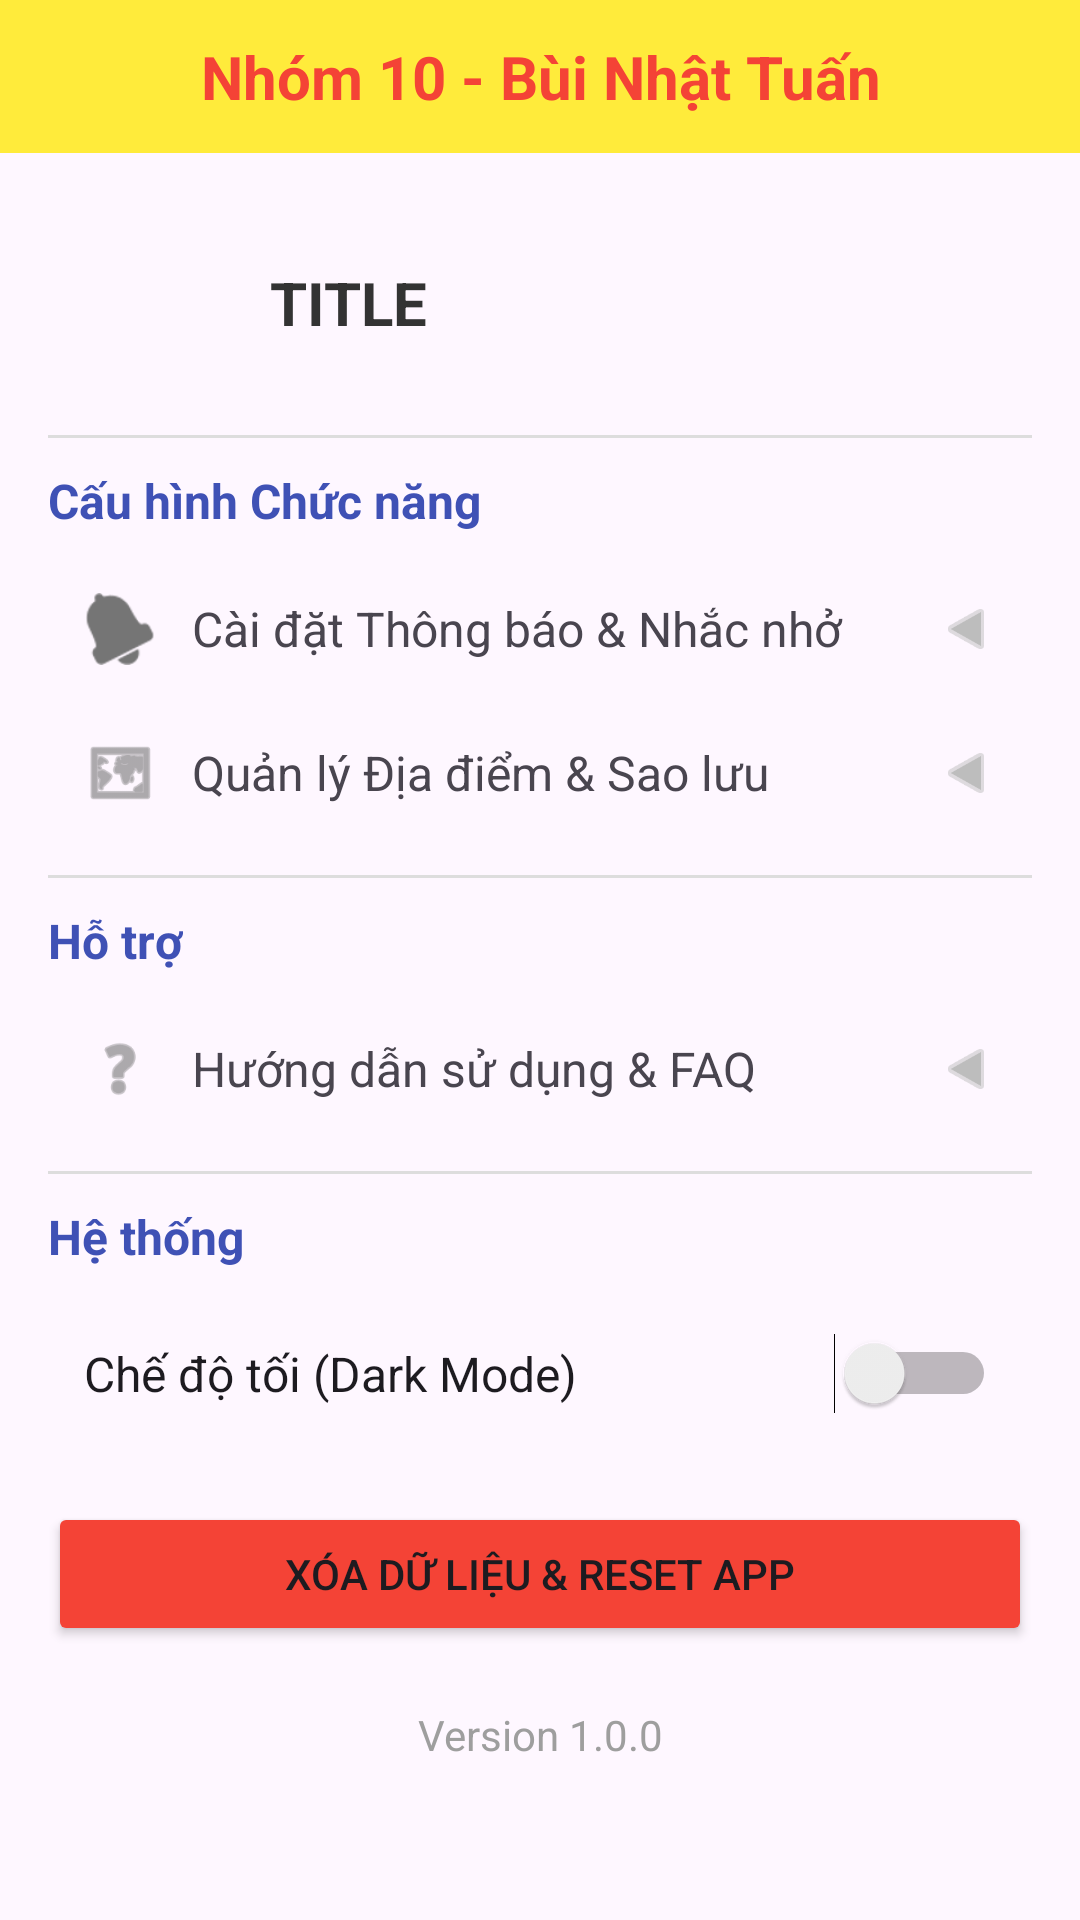

Where icons sit on this 1080w x 1920h app screen, as (x1, y1, x2, y2):
help: (105, 1043, 136, 1095)
mapmode: (91, 747, 150, 799)
popup reminder: (86, 593, 154, 665)
